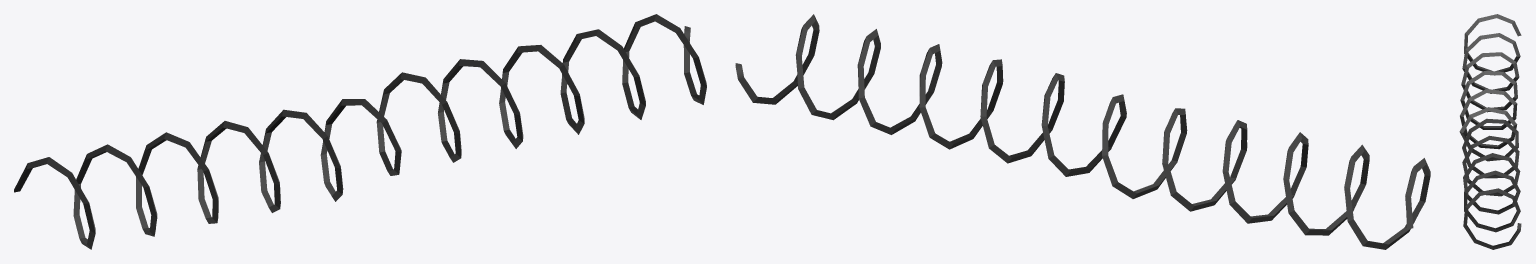
File: Wire_Loop_horizontal_Darkgray.fbx
3 views of the same model, side by side, from view 1: azimuth 30°, elevation 25°; view 2: azimuth 150°, elevation 25°; view 3: azimuth 270°, elevation 25° (orthographic). The views are drawn at different scales.
Parts seen in each view (by area): view 1: Wire_loop_Horizontal_DarkGray1; view 2: Wire_loop_Horizontal_DarkGray1; view 3: Wire_loop_Horizontal_DarkGray1.
Part boxes in pixels (x1,y1,x2,y2): Wire_loop_Horizontal_DarkGray1: (14, 14, 706, 249); Wire_loop_Horizontal_DarkGray1: (735, 14, 1430, 249); Wire_loop_Horizontal_DarkGray1: (1459, 14, 1521, 249).
Bounding box in the file's own units: 8.01 × 1.13 × 1.11.
1 material, 1 textured.
